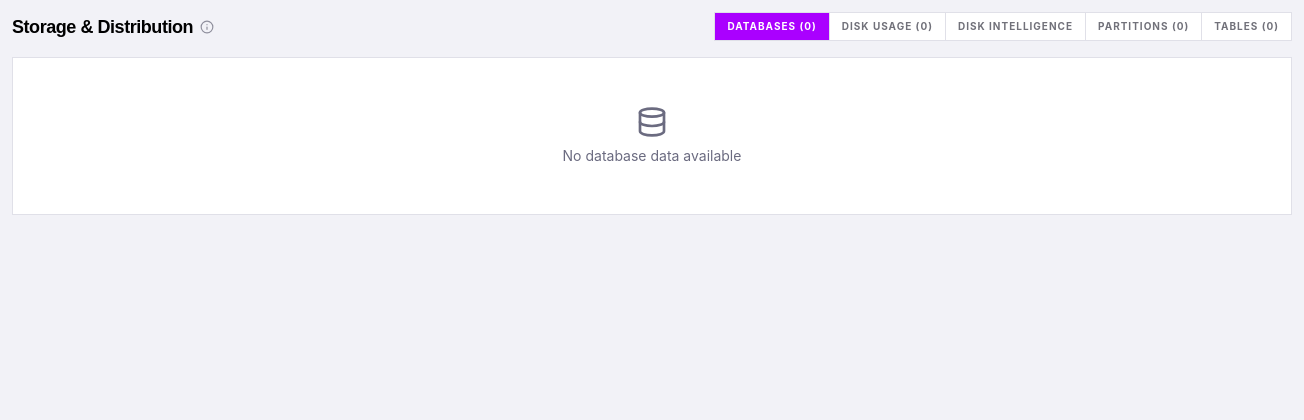
Scenario: StorageDistribution › expands other_overhead details explaining uncaptured mount space on click
Click the button with test id "storage-tab-disk" at (888, 26), box [830,13,946,40]
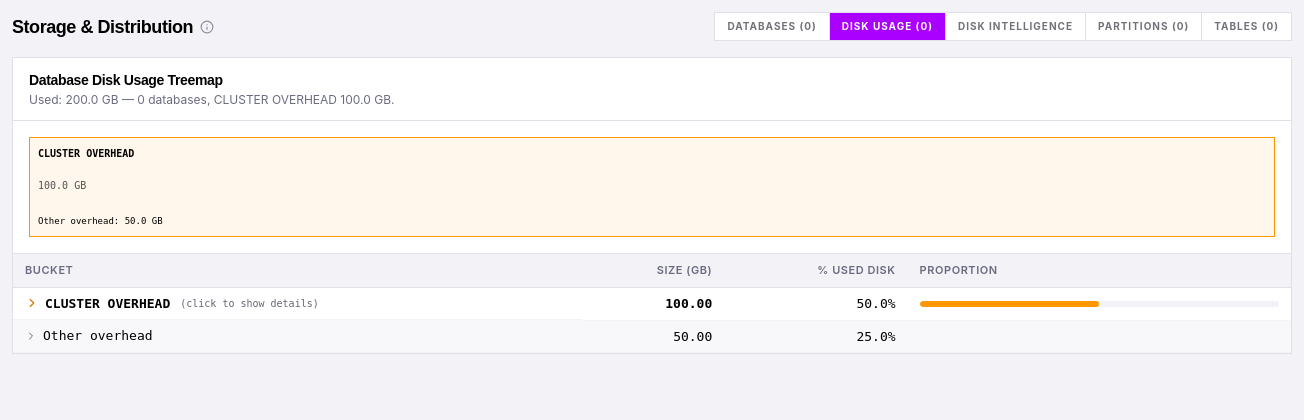
Result: the row with test id "overhead-child-other_overhead" is shown
Click the row with test id "overhead-child-other_overhead" at (652, 336), box [13,320,1291,352]
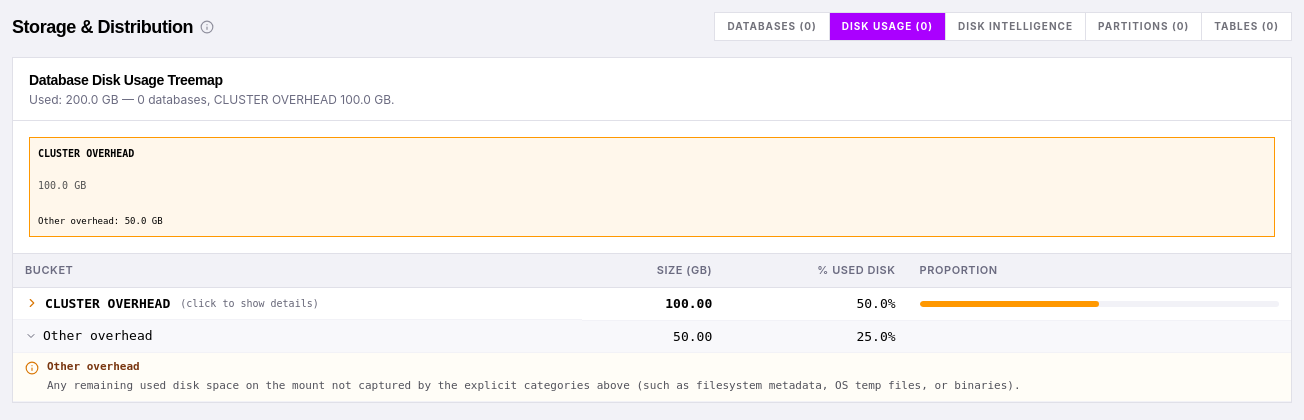
Result: the row with test id "overhead-detail-other_overhead" shows "Any remaining used disk space on the mount not captured by the explicit categories above" at [47,379,1020,392]
Result: the row with test id "overhead-detail-other_overhead" shows "filesystem metadata, OS temp files, or binaries" at [47,379,1020,392]
